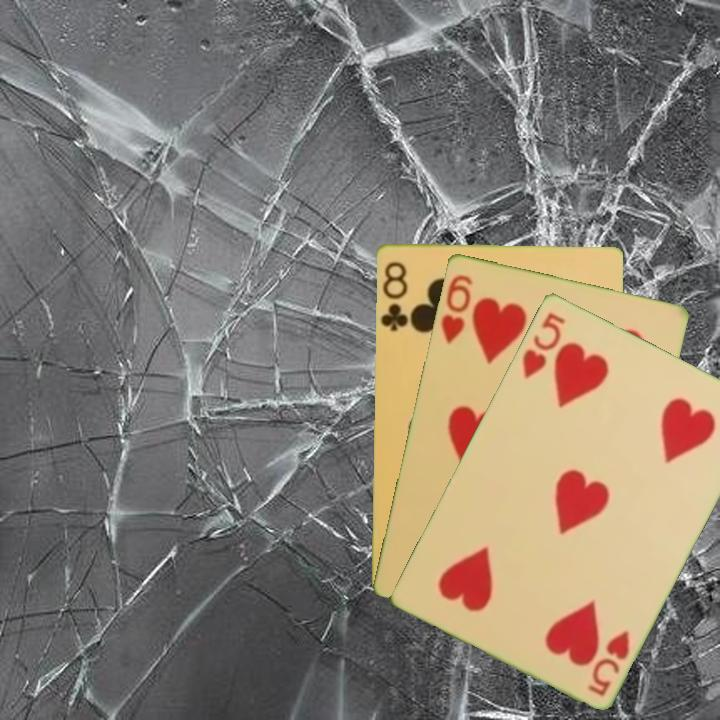5h: (518, 308, 568, 381), (584, 627, 633, 699)
6h: (436, 270, 475, 346)
8c: (377, 257, 413, 333)
